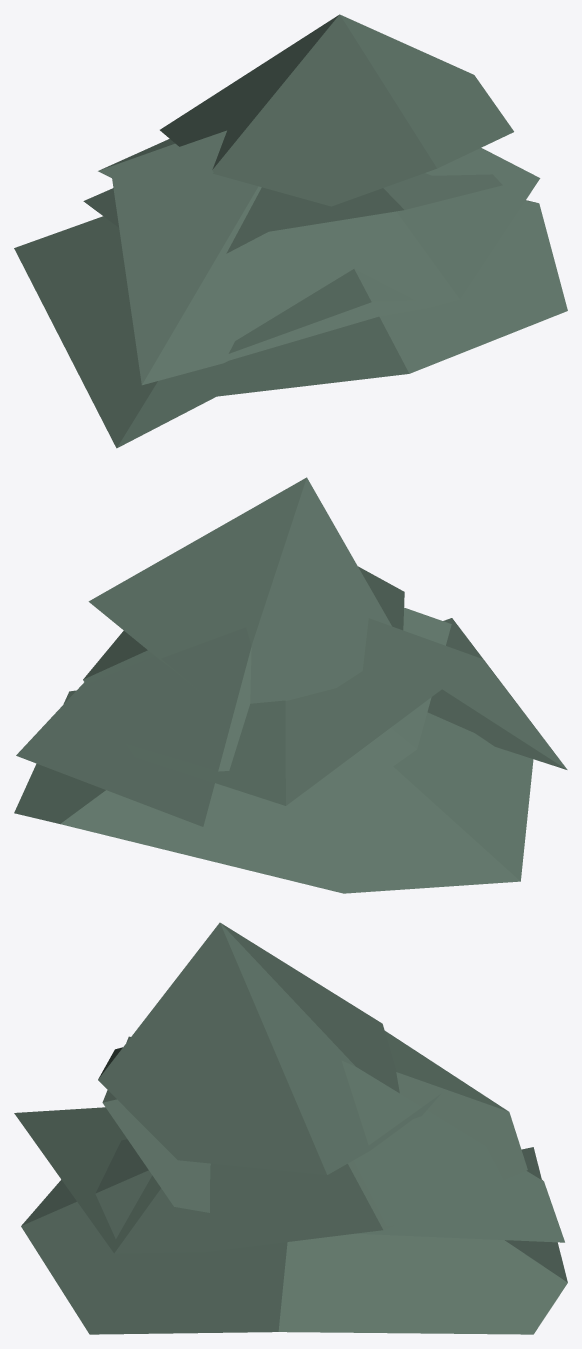
File: Cali.fbx
3 renders of one model, top to bottom at view 1: azimuth 30°, elevation 25°; view 2: azimuth 150°, elevation 25°; view 3: azimuth 270°, elevation 25°, orthographic. The views are drawn at different scales.
Visible parts, largest first — view 1: Plane; view 2: Plane; view 3: Plane.
Boxes of the visible parts, box(x1,y1,x2,y2) form: Plane: box(14, 14, 567, 448); Plane: box(14, 477, 567, 893); Plane: box(14, 922, 567, 1334).
Size of the model in its own units: 396 by 307 by 374.
